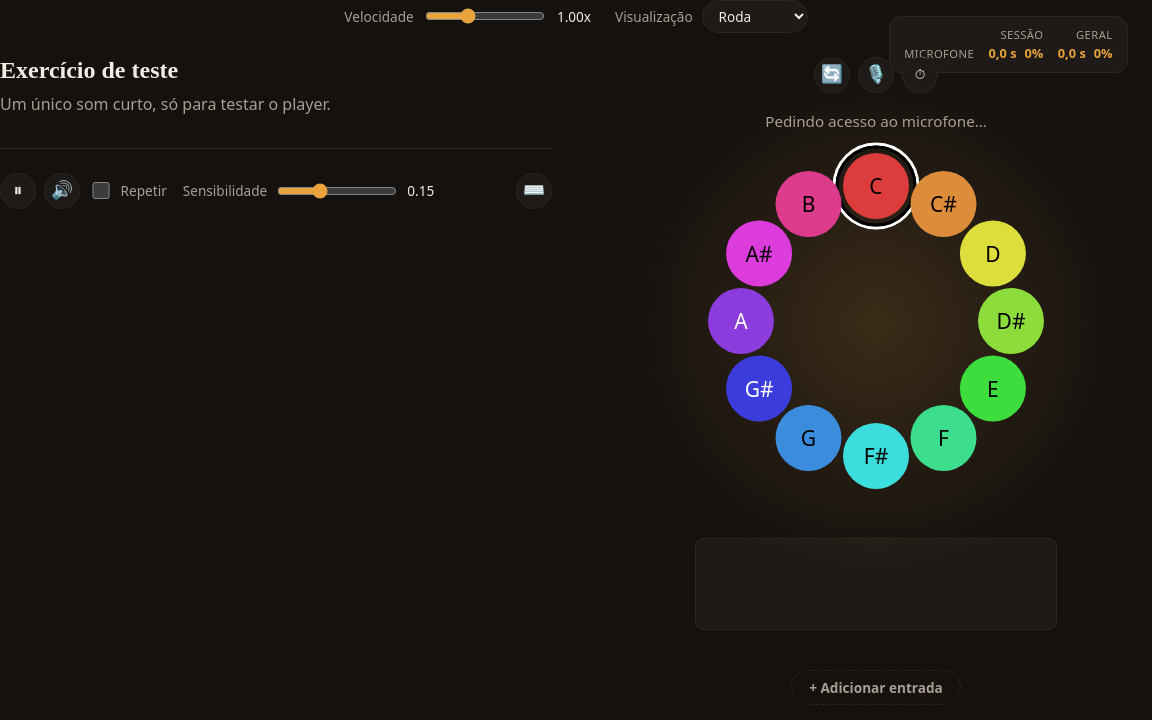
Test case: ExercisePlayer keyboard shortcuts › opens the help with ? and suspends shortcuts while it is open
The width and height of the screenshot is (1152, 720).
Press ?
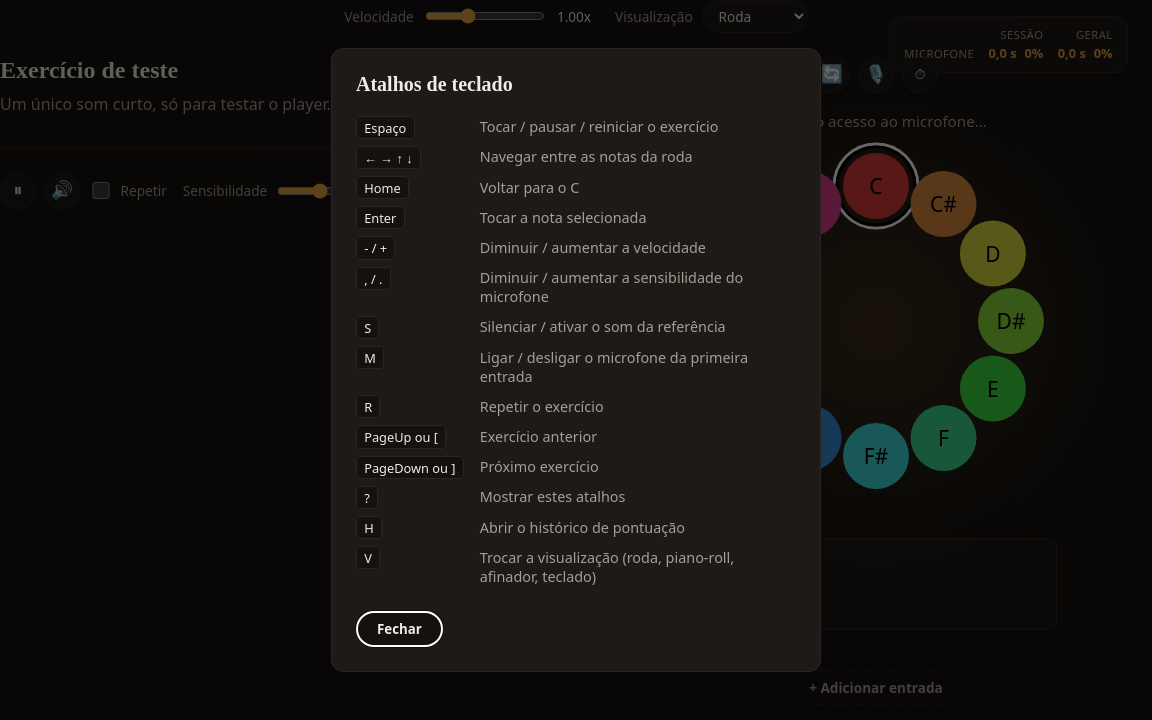
Result: the dialog "Atalhos de teclado" is shown at [331,48,821,672]
Press s
Expected: the button named "Silenciar" is shown, [44,173,80,209]
Click the button "Fechar": (399, 629) [356,611,443,647]
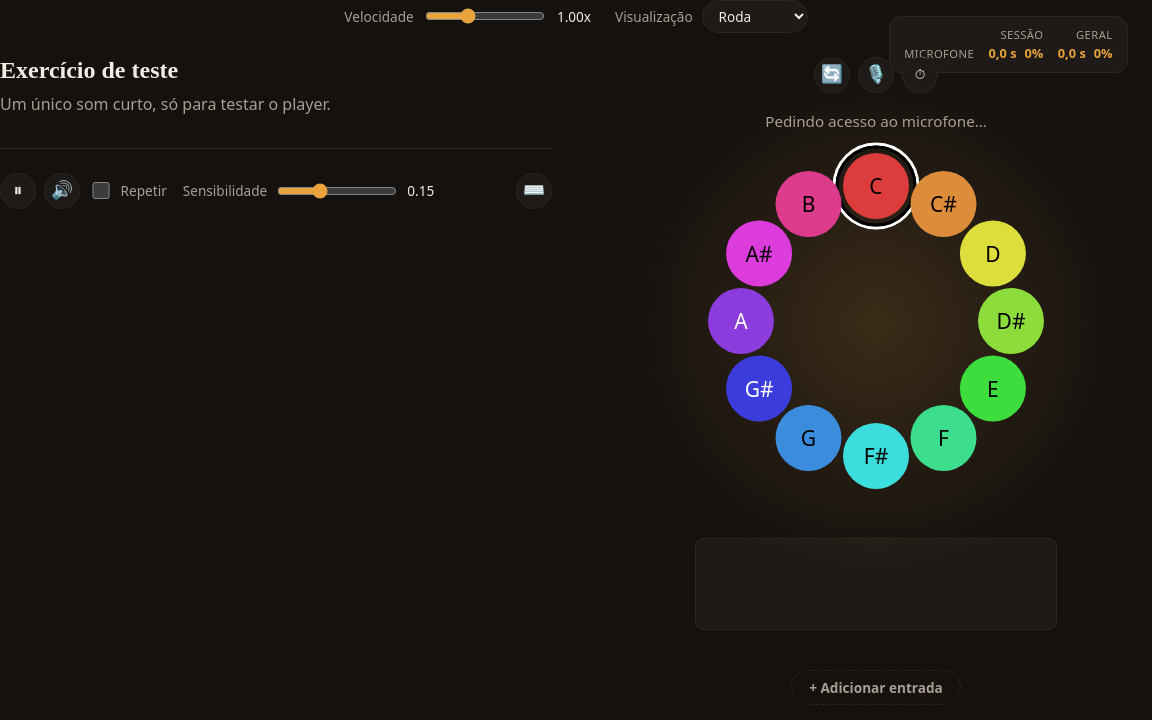
Result: the dialog is gone
Press s
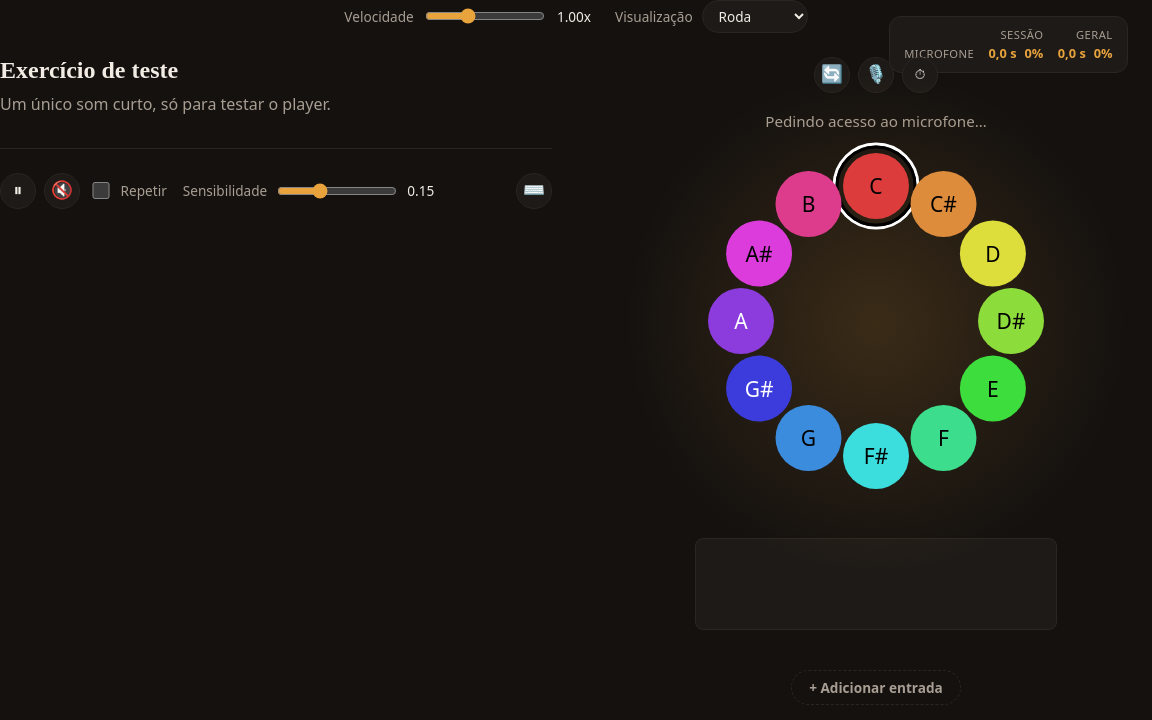
Result: the button named "Ativar som" is shown at [44,173,80,209]
